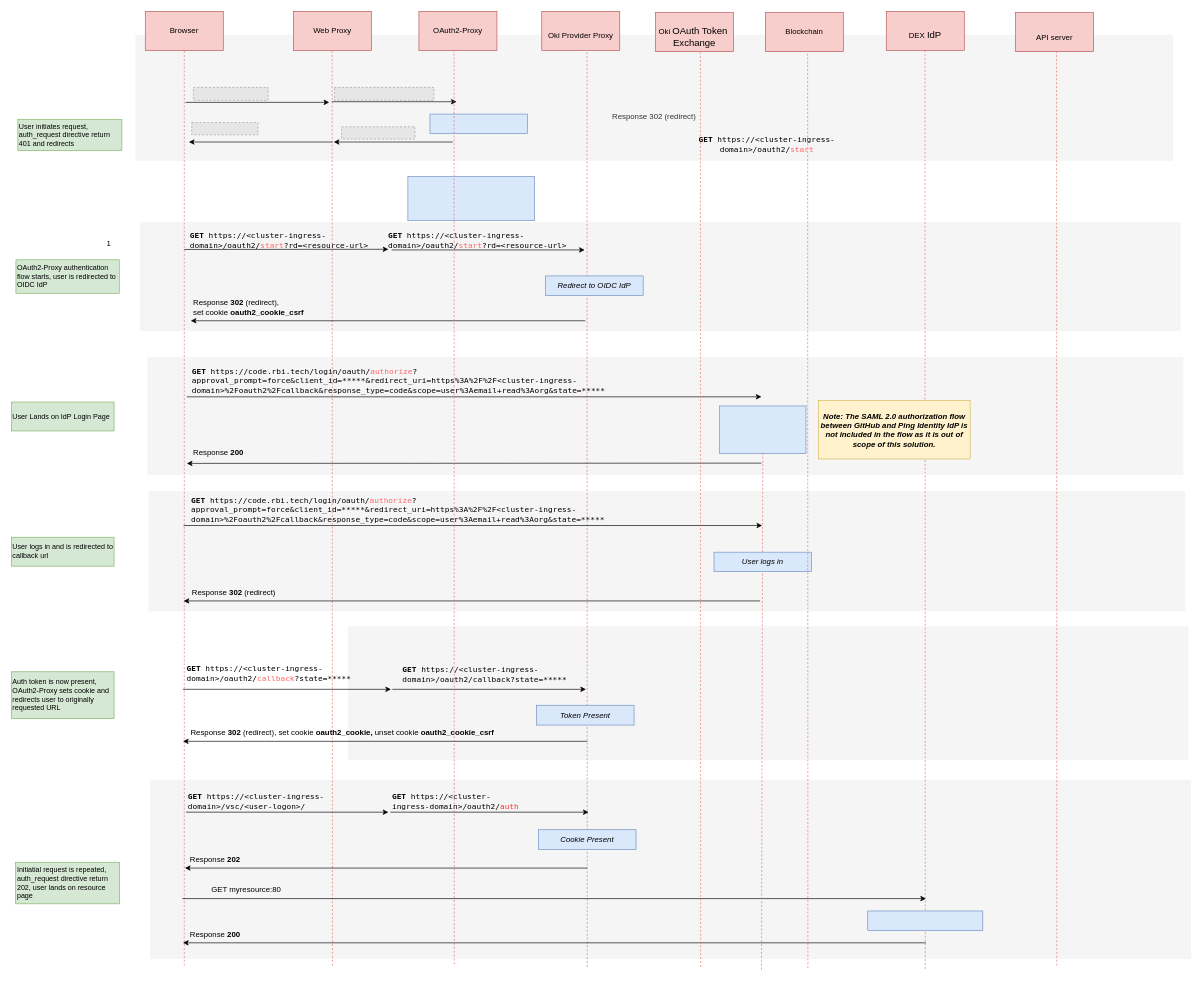
The diagram is 1203 pixels wide and 981 high, and some of its shapes have lost their labels. Grey dashed boxes stand in for pictures. Here are the shapes that lost their labels. From the top down, the box of each, then its label:
(429, 113, 527, 134): Cookie / Headers not Present
(407, 176, 535, 221): Initiate an auth_request Note: TLS termination handled by the ALB
(719, 405, 806, 453): User sees the GitHub login page (and is asked to sign in with RBI Ping Federate)
(867, 910, 983, 930): User lands on resource page
